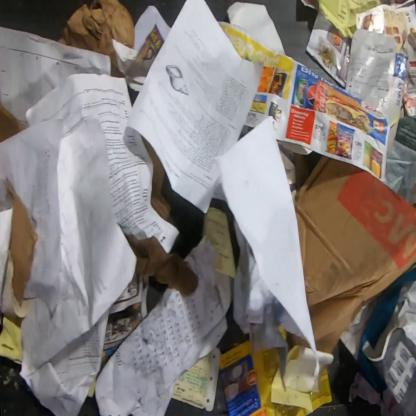cardboard: (293, 150, 415, 355), (344, 28, 409, 160), (55, 0, 136, 78), (125, 235, 197, 296), (5, 181, 38, 308), (141, 135, 172, 223), (0, 102, 28, 144)
